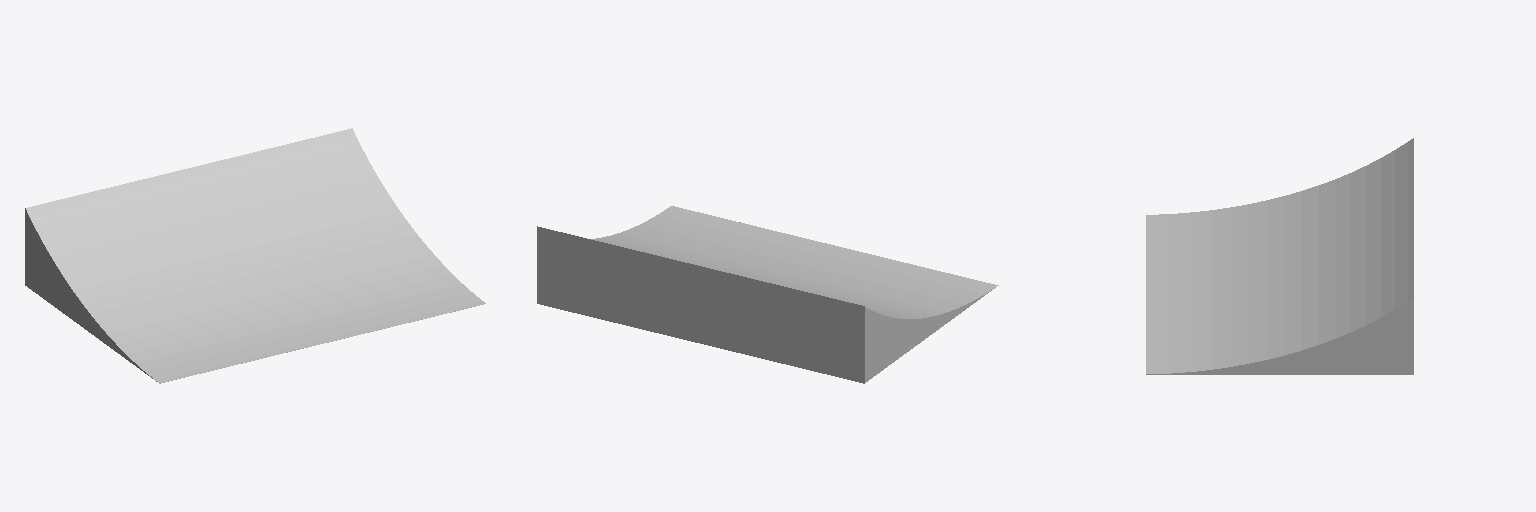
Rendered from Ramp.obj.
3 views of the same model, side by side, from view 1: azimuth 30°, elevation 25°; view 2: azimuth 150°, elevation 25°; view 3: azimuth 270°, elevation 25° (orthographic).
Visible parts, largest first — view 1: Object.1; view 2: Object.1; view 3: Object.1.
Boxes of the visible parts, x1,y1,x2,y2 form: Object.1: [25, 128, 485, 383]; Object.1: [537, 206, 998, 383]; Object.1: [1146, 138, 1413, 374].
Size of the model in its own units: 49.12 by 11.13 by 34.87.